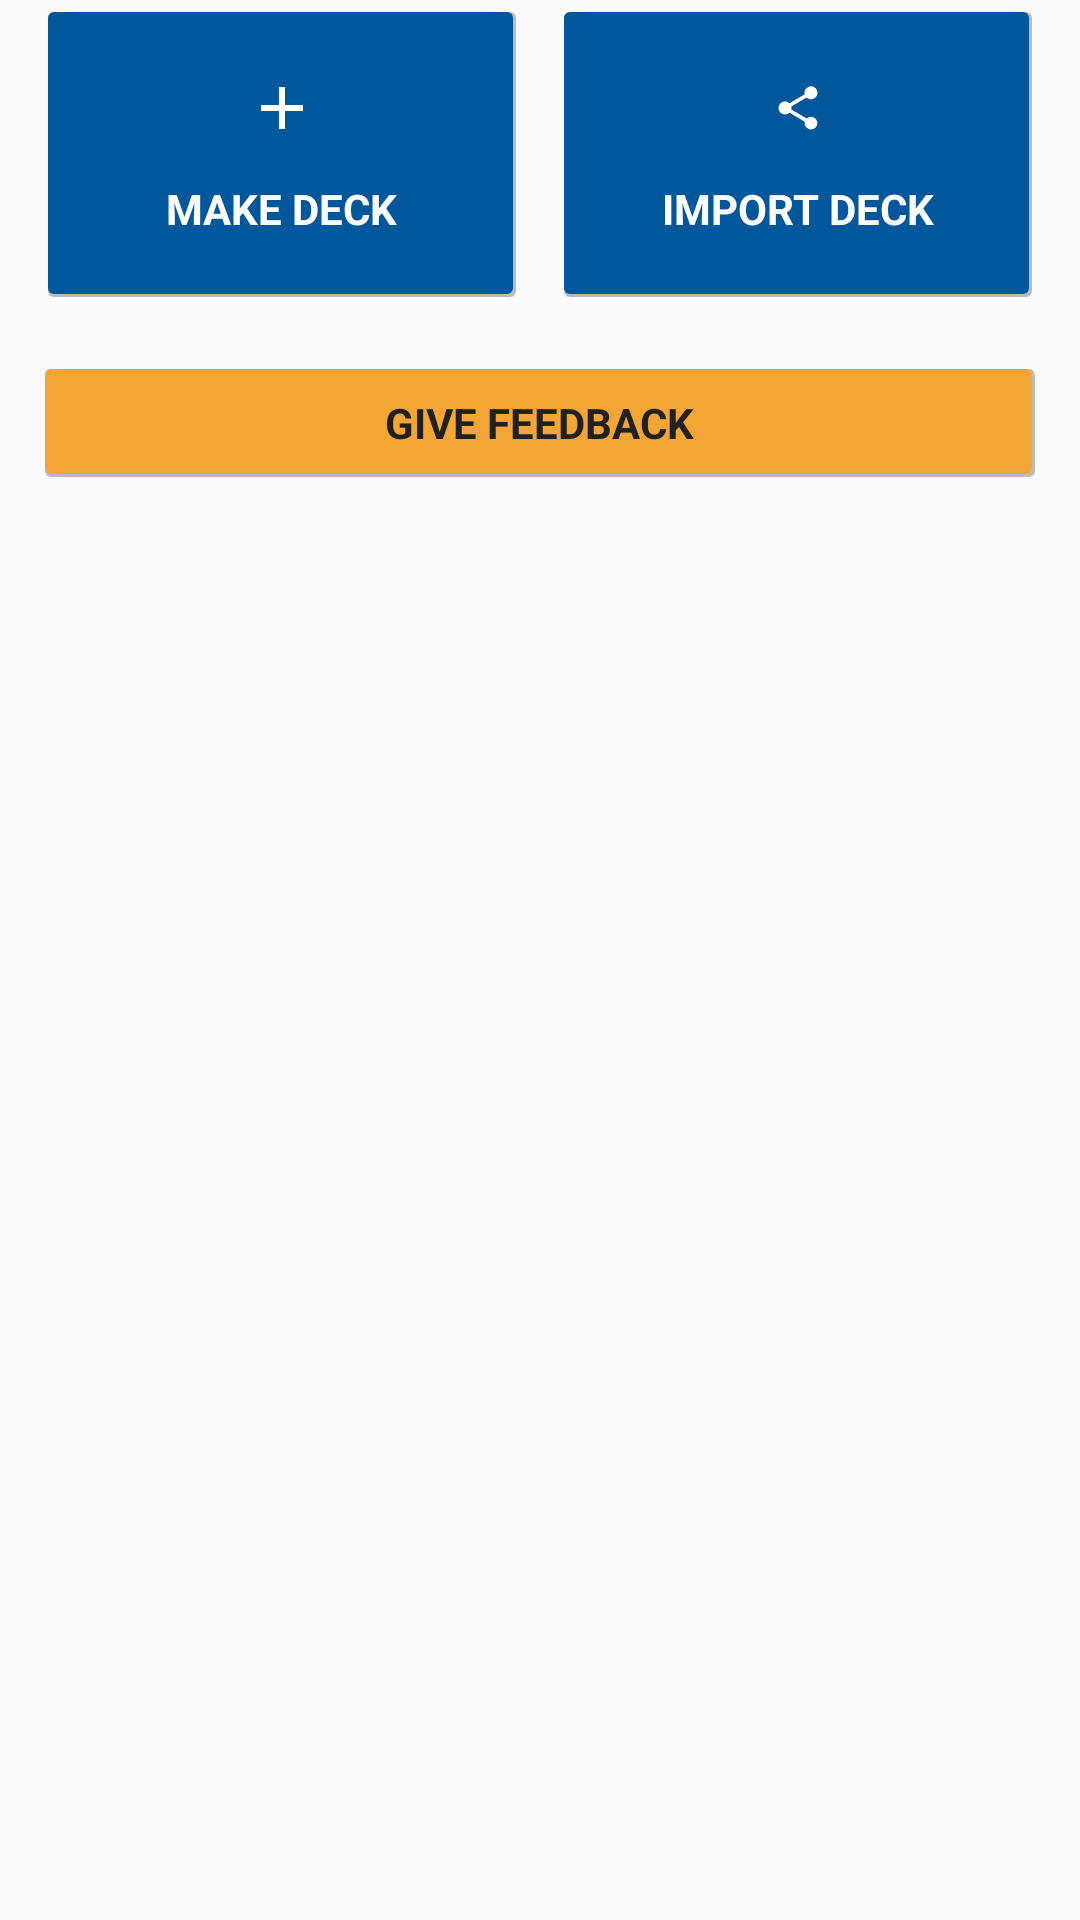

Locate icon controls on the screen. Image size 1080 x 1920, boxes as [x1, y1, x2, y2].
add: [261, 87, 303, 129]
share: [778, 86, 818, 130]
